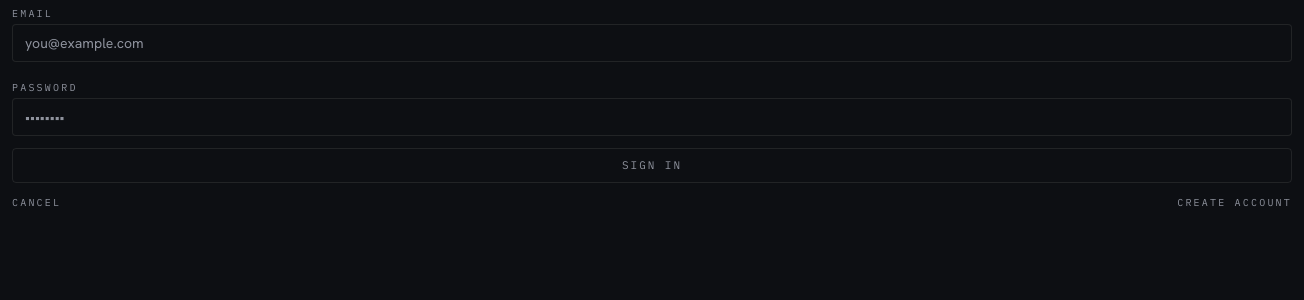
Test: EmailAuthForm › mode switching › switches to sign-up mode when 'Create account' is clicked
What coordinates should you click on to do the following:
click the button "Create account"
I would click on:
 (1235, 202)
Its box is x1=1177 y1=194 x2=1292 y2=210.
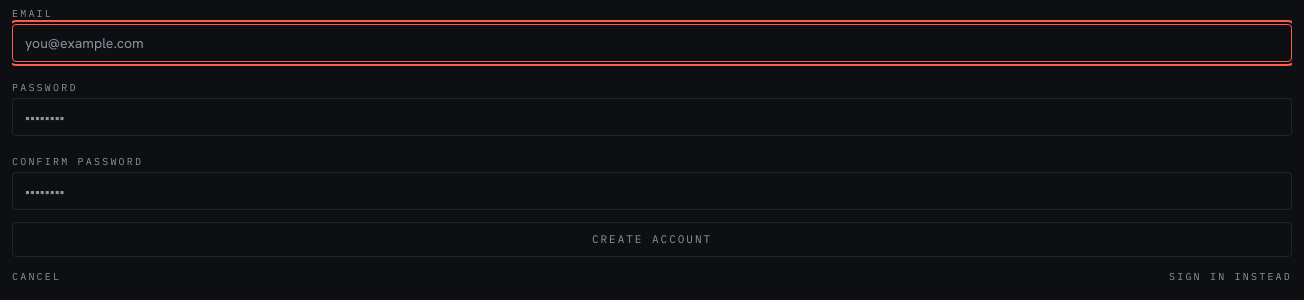
Now the password field labelled "Confirm password" is shown, box x1=12 y1=172 x2=1292 y2=210
Now the button "Create account" is shown, box x1=12 y1=222 x2=1292 y2=256
Now the button "Sign in instead" is shown, box x1=1169 y1=268 x2=1292 y2=284
